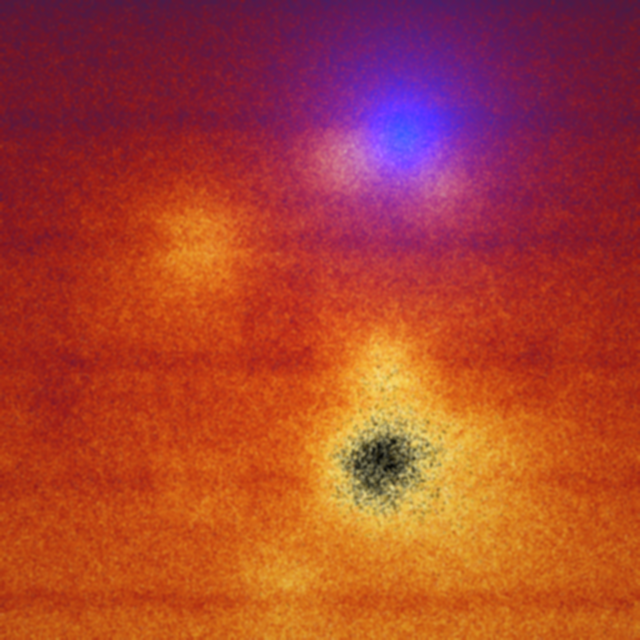nozzle: (357, 78, 452, 170)
